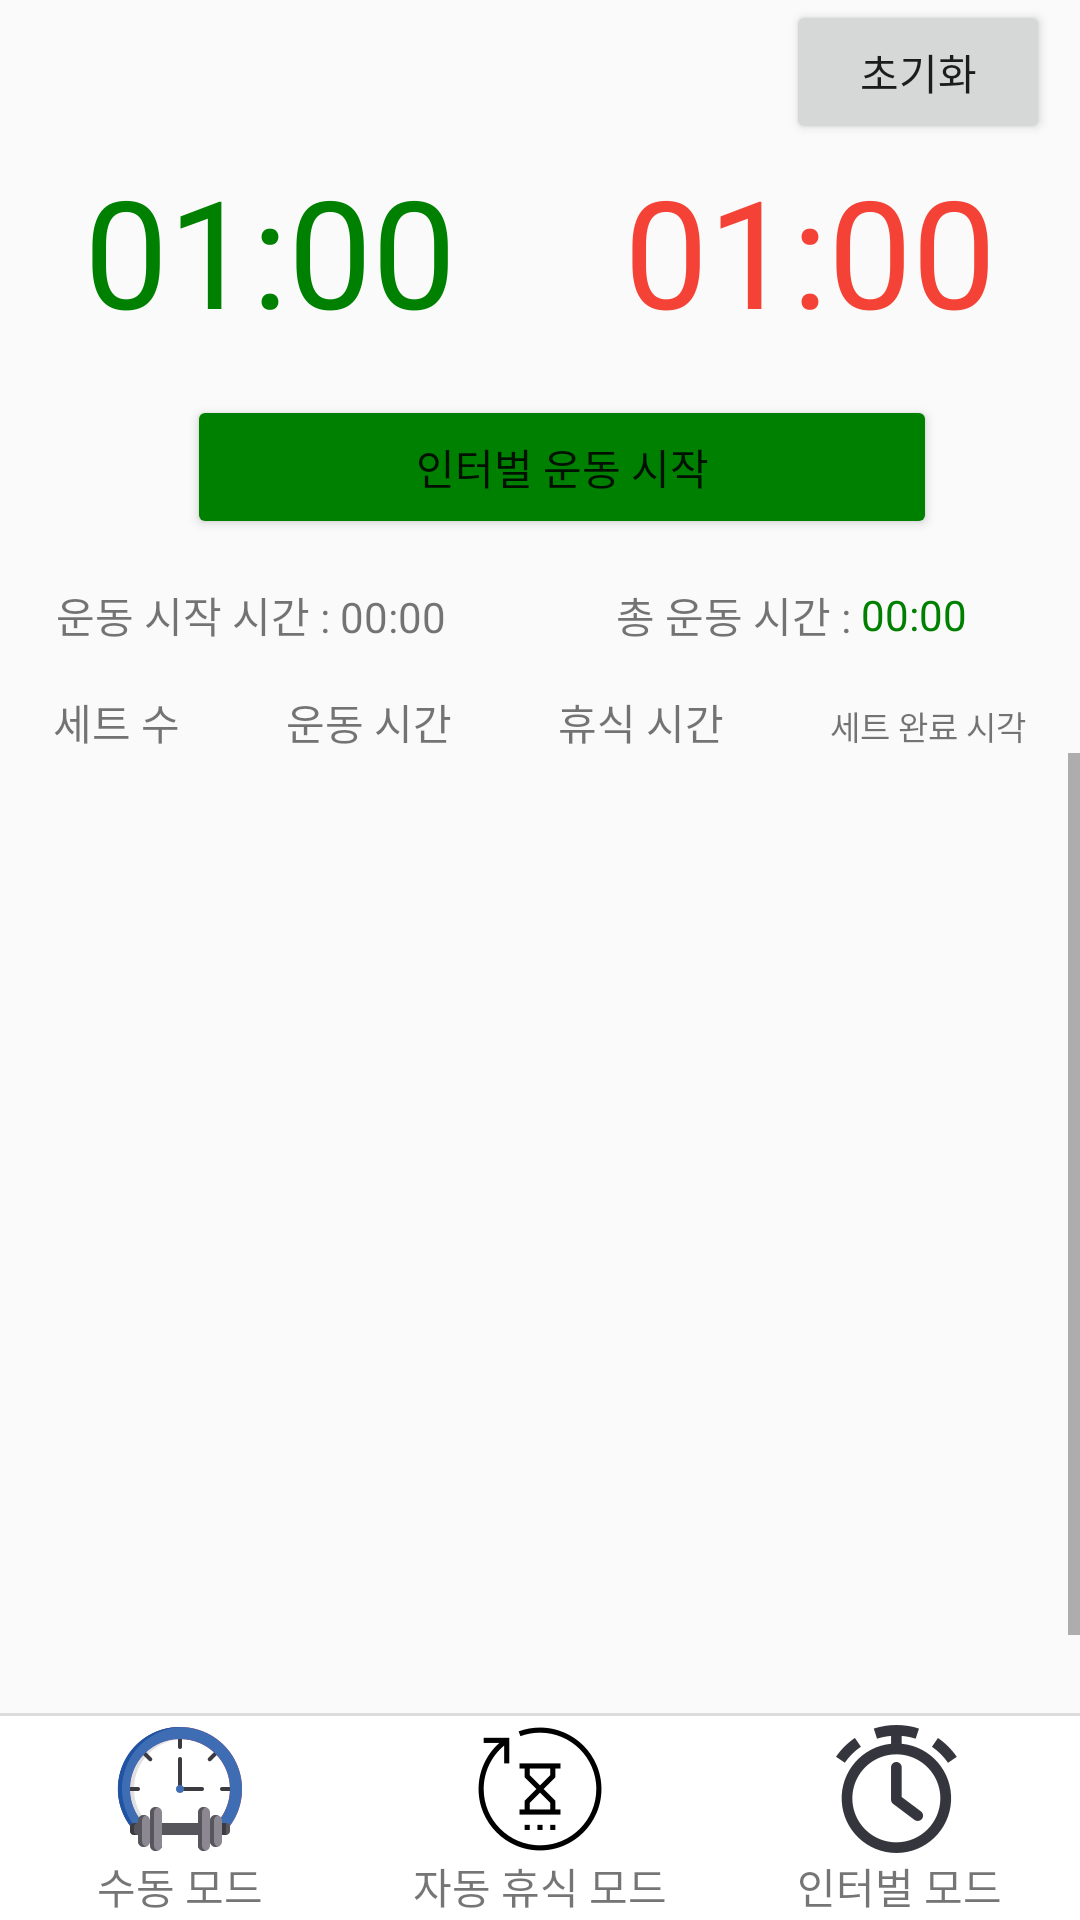

Locate icon controls on the screen. Image size 1080px×1920px, boxes as (x1, y1, x2, y2).
exercise: (117, 1727, 242, 1851)
